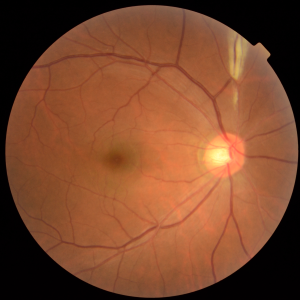retina_disease: (75, 97, 273, 213)
